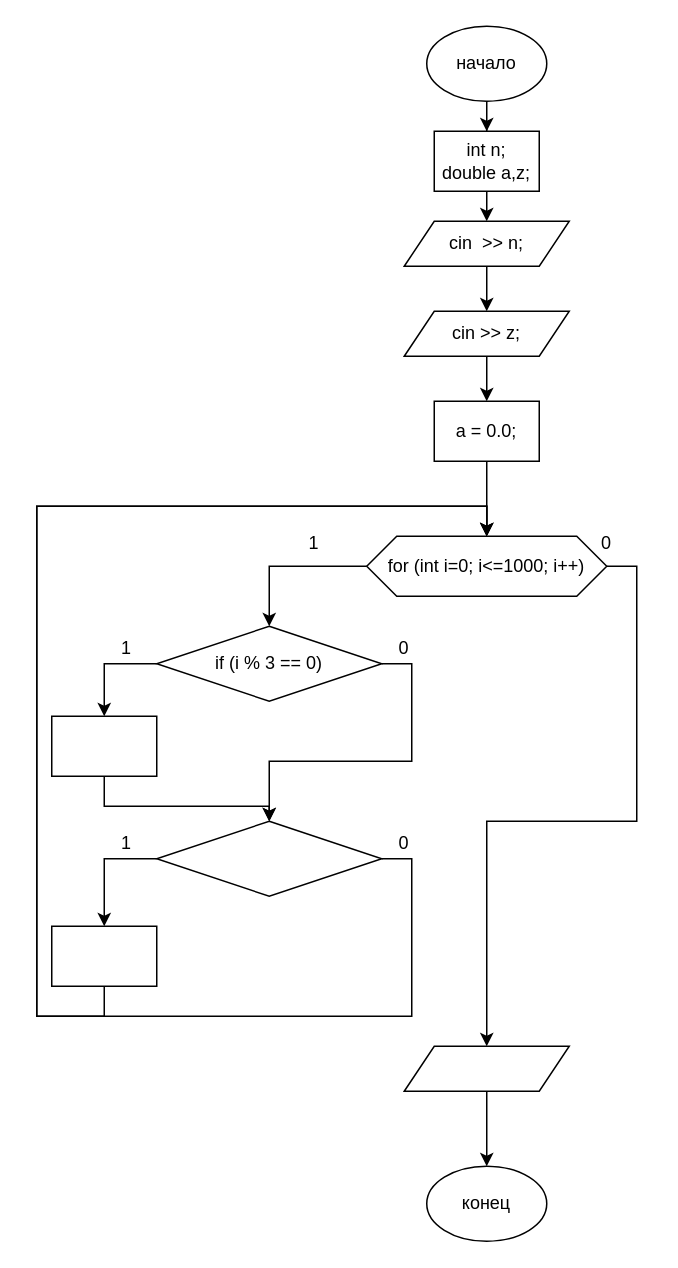
Some shapes in this 678 by 1268 pixel diagram are drawn without their labels. The shapes that lost their labels are listed below. From the top down, each one's centre as x and y in pixels, then its label:
At point (103, 745): "s = s - i;".
At point (268, 858): "if (i % 3 != 0)".
At point (103, 955): "s = s + i;".
At point (486, 1068): "cout << s;".
